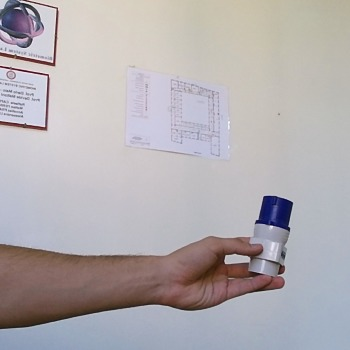hand: (2, 239, 280, 323)
